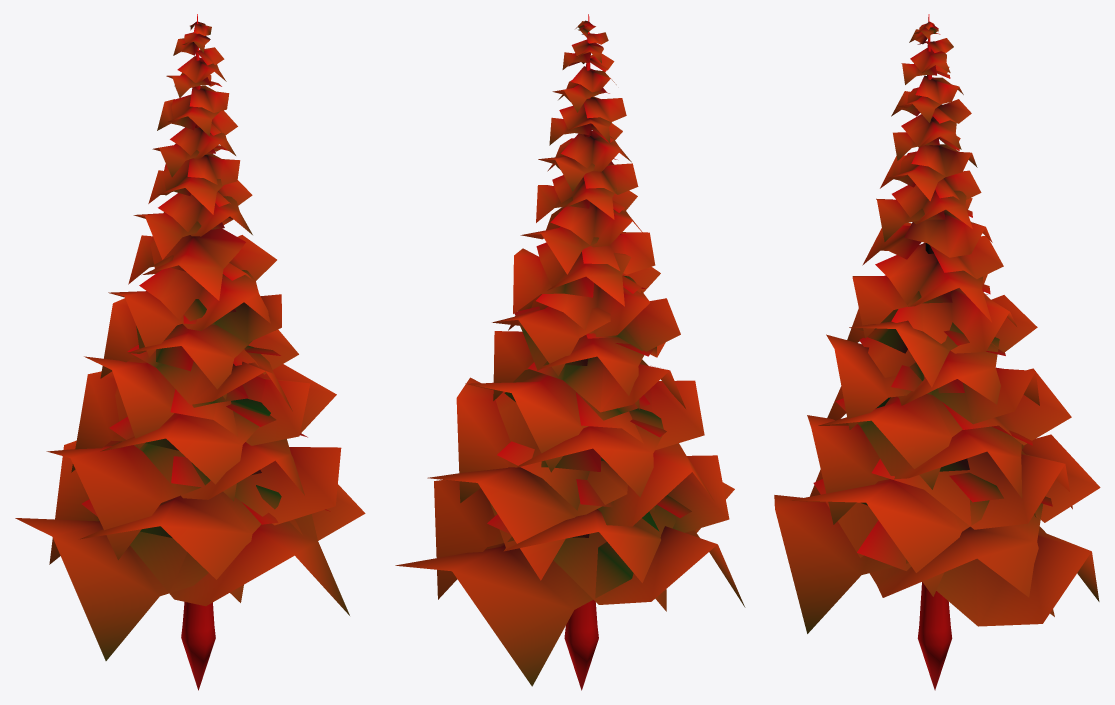
Rendered from SpruceTreeRHEWP_D.fbx.
3 renders of one model, left to right at view 1: azimuth 30°, elevation 25°; view 2: azimuth 150°, elevation 25°; view 3: azimuth 270°, elevation 25°, orthographic.
Visible parts, largest first — view 1: STD_Leaves_LOD0, STD_Bark_LOD0; view 2: STD_Leaves_LOD0, STD_Bark_LOD0; view 3: STD_Leaves_LOD0, STD_Bark_LOD0.
Part boxes in pixels (x1,y1,x2,y2): STD_Leaves_LOD0: [15, 21, 365, 660]; STD_Bark_LOD0: [181, 14, 215, 690]; STD_Leaves_LOD0: [395, 20, 745, 686]; STD_Bark_LOD0: [564, 14, 598, 690]; STD_Leaves_LOD0: [774, 22, 1100, 633]; STD_Bark_LOD0: [917, 14, 952, 690].
Size of what is drawn, in the model's own units: 12.44 by 28.62 by 12.54.
